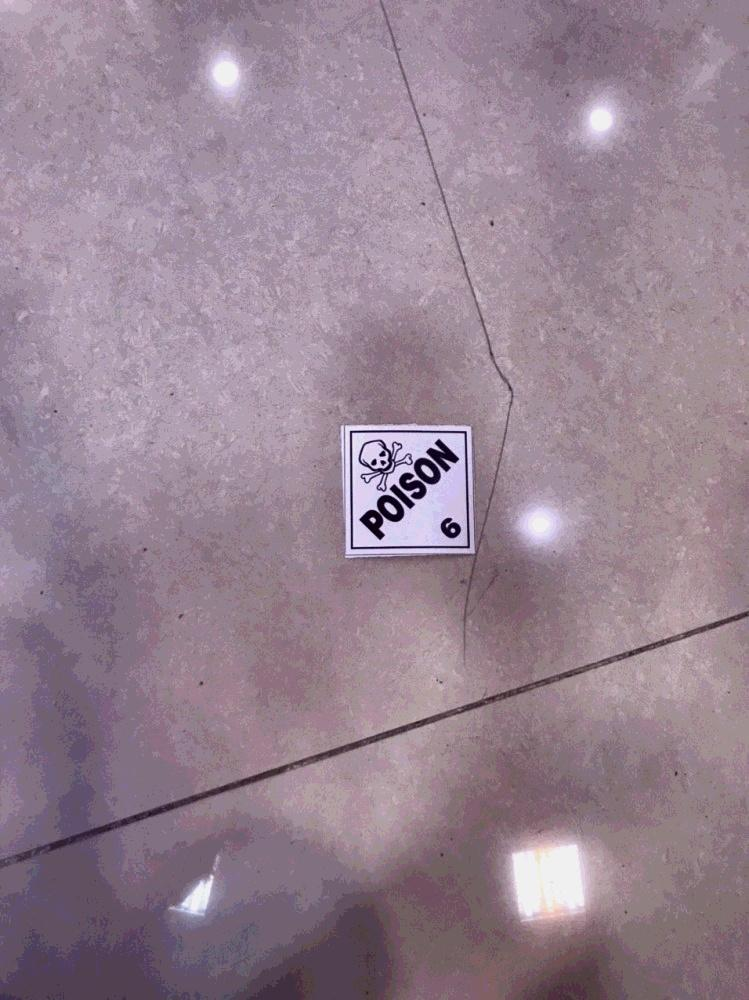poison: (342, 421, 475, 560)
